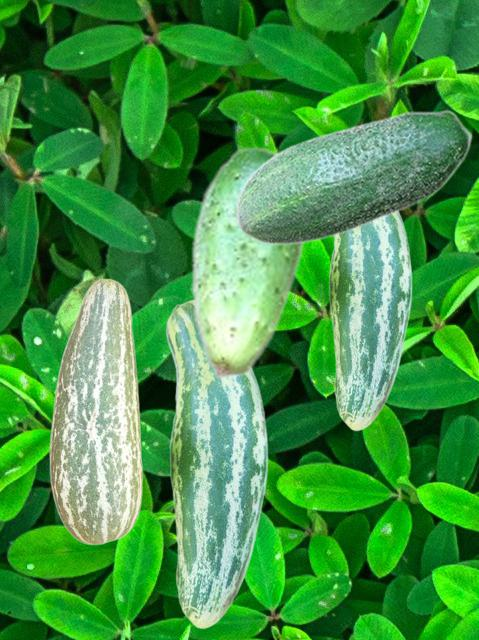cucumber: (165, 299, 267, 628), (235, 109, 472, 244), (190, 145, 305, 379), (49, 278, 142, 544), (328, 213, 411, 430)
